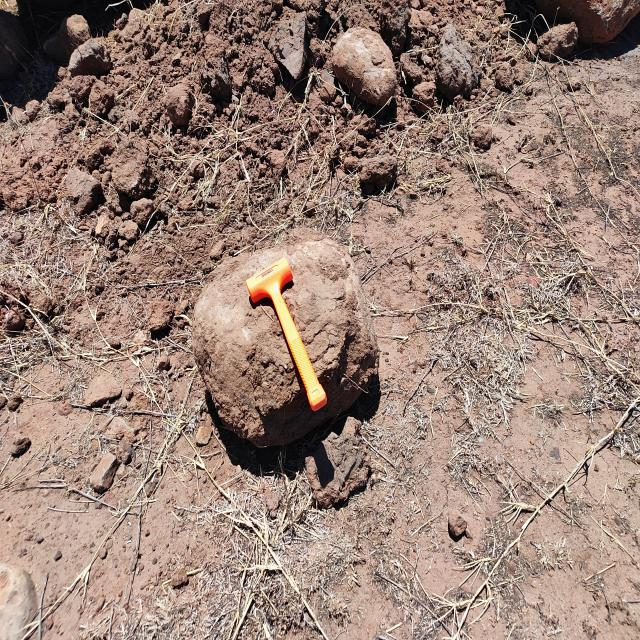Orange_hammer: (244, 256, 328, 412)
